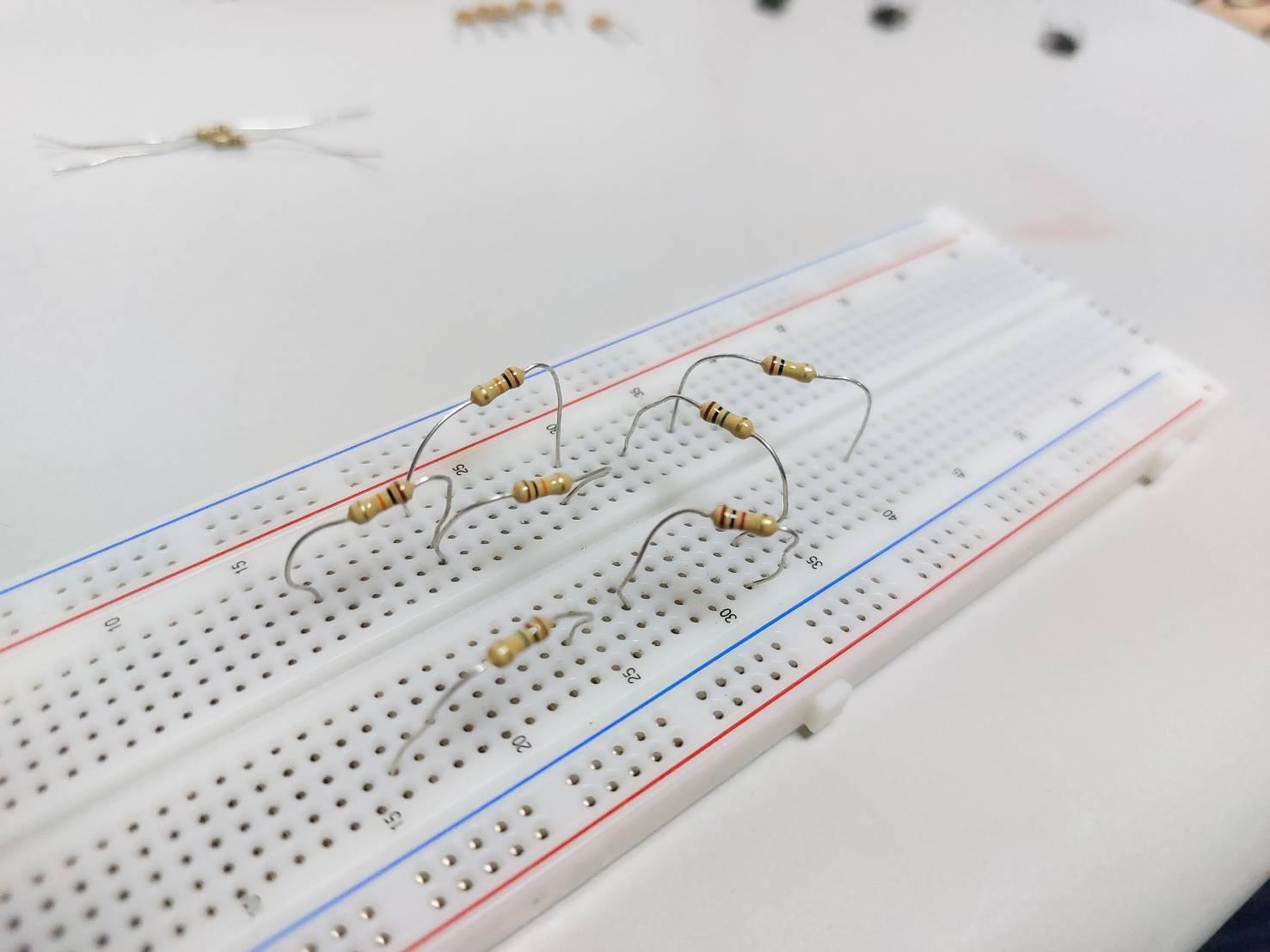resistor: (347, 479, 416, 521), (712, 502, 780, 538), (700, 399, 753, 440), (473, 365, 526, 405), (761, 354, 817, 382), (512, 474, 572, 500)
